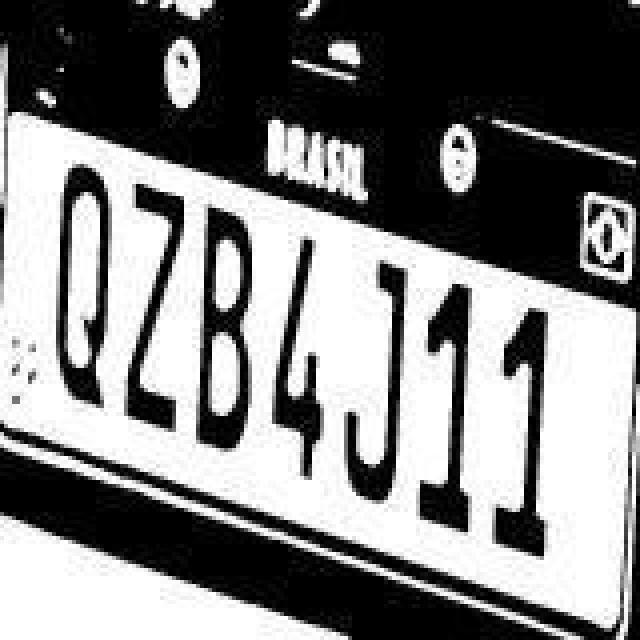1: (486, 306, 554, 566), (416, 270, 480, 546)
4: (260, 224, 332, 488)
B: (190, 190, 258, 474)
J: (344, 250, 408, 510)
Q: (54, 158, 122, 418)
Z: (124, 170, 180, 446)
